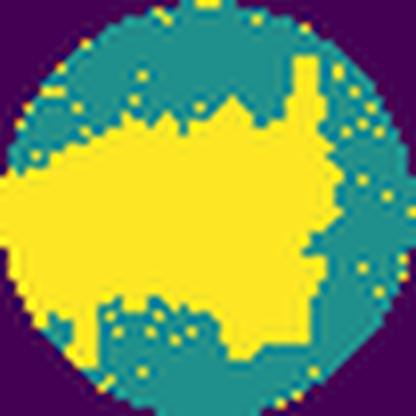Loc: (0, 53, 346, 371)
